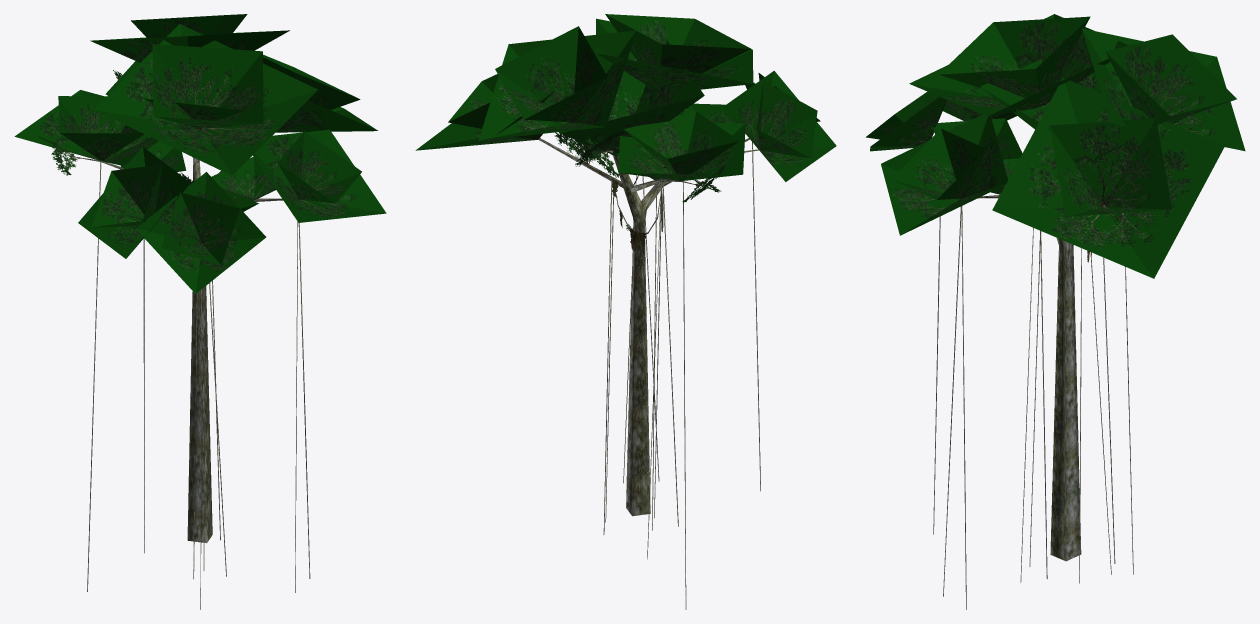
The model's file is decd_treecanopy_l2.fbx.
3 views of the same model, side by side, from view 1: azimuth 30°, elevation 25°; view 2: azimuth 150°, elevation 25°; view 3: azimuth 270°, elevation 25° (orthographic). The views are drawn at different scales.
Parts seen in each view (by area): view 1: mesh_node; view 2: mesh_node; view 3: mesh_node.
Boxes of the visible parts, <box> form: mesh_node: <box>14,14,386,609</box>; mesh_node: <box>415,14,836,609</box>; mesh_node: <box>866,14,1245,609</box>.
Size of the model in its own units: 21.28 by 34.02 by 20.
